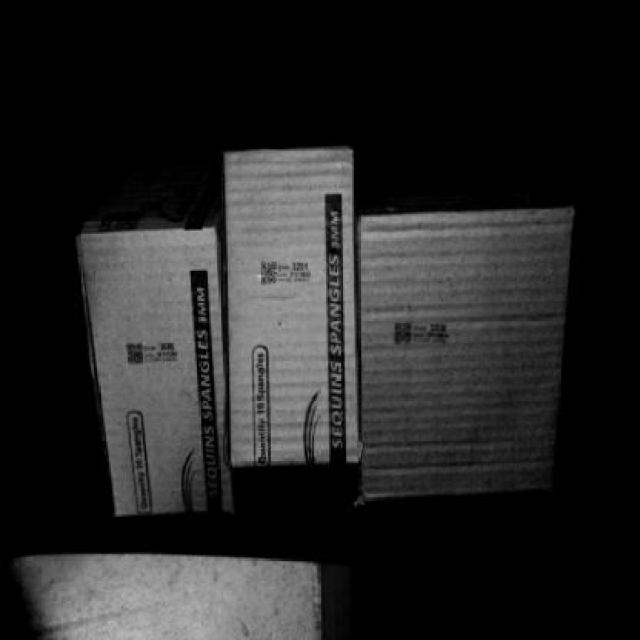cardboxes: (362, 202, 570, 516), (77, 231, 232, 518), (230, 151, 358, 463)
